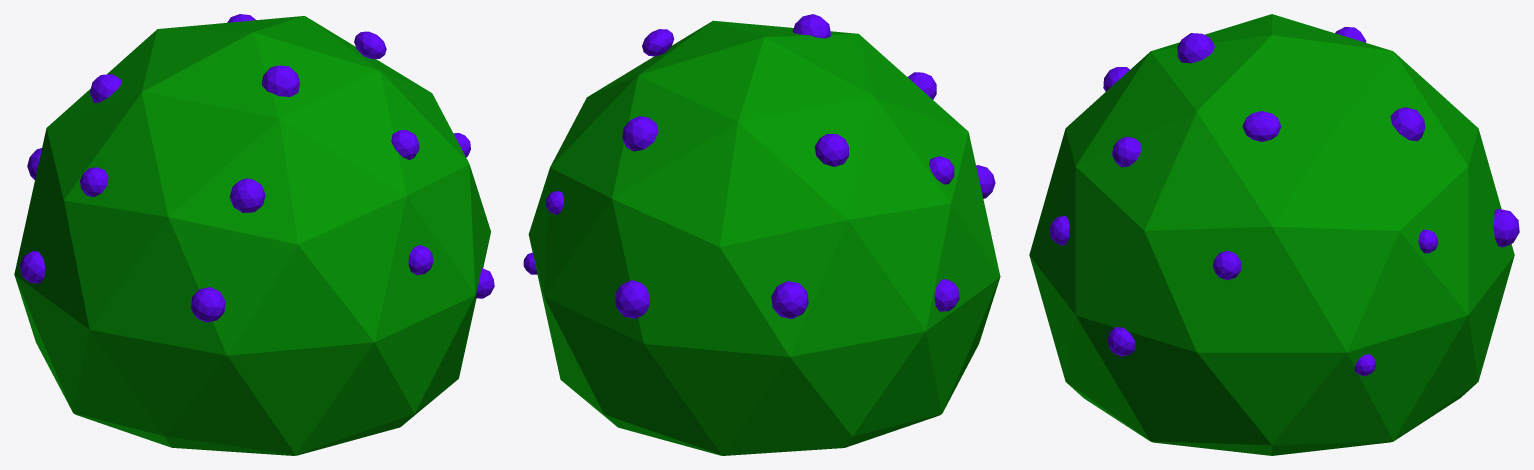
File: Berries.fbx
The picture shows the model from 3 angles, left to right: view 1: azimuth 30°, elevation 25°; view 2: azimuth 150°, elevation 25°; view 3: azimuth 270°, elevation 25°; orthographic projection.
Visible parts, largest first — view 1: Bush, Berries; view 2: Bush, Berries; view 3: Bush, Berries.
Boxes of the visible parts, <box> form: Bush: <box>14,16,490,455</box>; Berries: <box>20,14,494,322</box>; Bush: <box>528,20,1000,455</box>; Berries: <box>523,14,995,318</box>; Bush: <box>1029,14,1514,455</box>; Berries: <box>1049,27,1519,376</box>.
Bounding box in the file's own units: 530 × 415 × 546.
